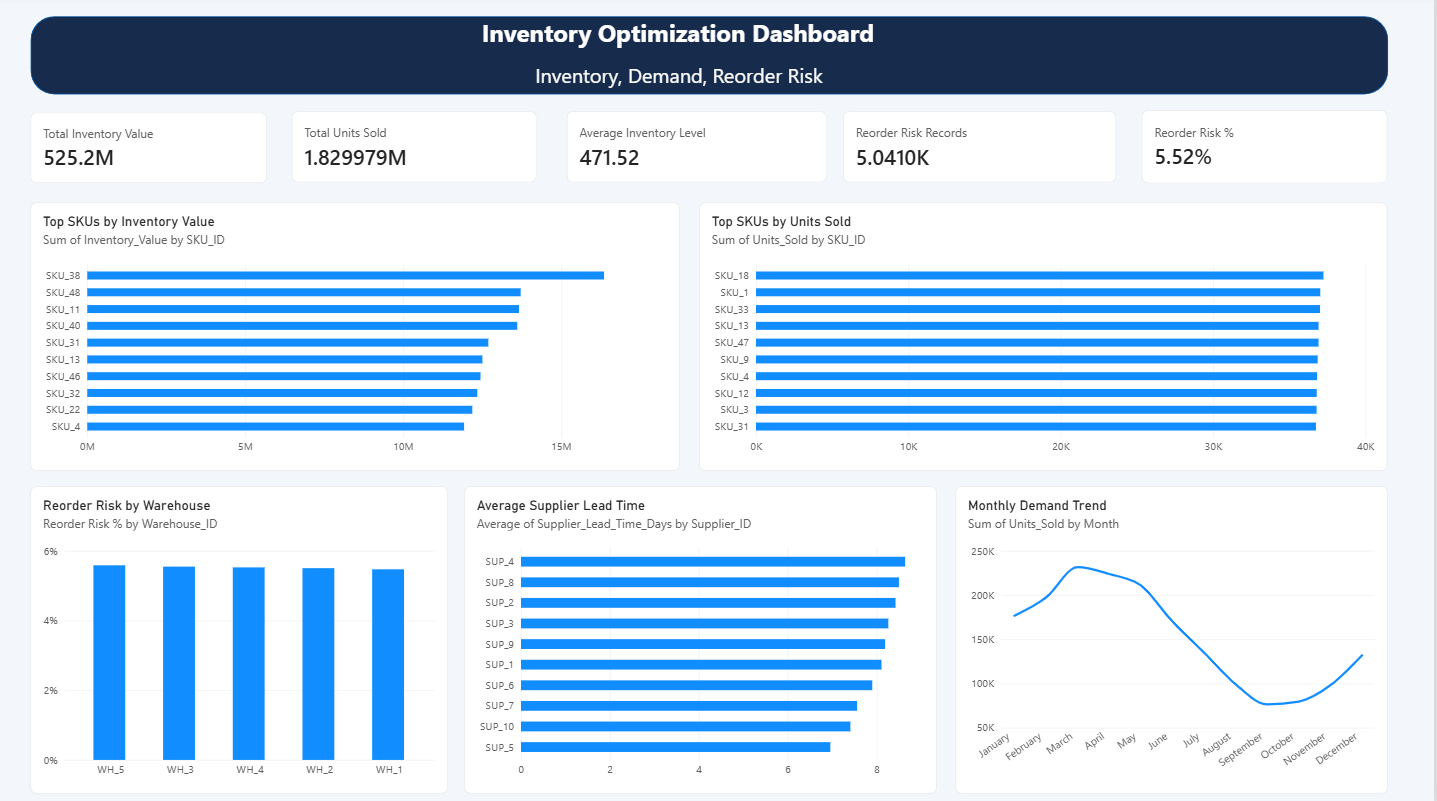

What the dashboard file says about the page in this screenshot:
{"tool":"powerbi","page":{"name":"Page 1","canvas":[1920,1080],"ordinal":0},"visuals":[{"type":"cardVisual","fields":{"Data":["inventory_cleaned.Reorder Risk %"]},"box":[1527.9,154.2,328.4,98.1],"z":0},{"type":"cardVisual","fields":{"Data":["inventory_cleaned.Total Inventory Value"]},"box":[43.4,157.4,316.7,94.1],"z":1000},{"type":"cardVisual","fields":{"Data":["inventory_cleaned.Total Units Sold"]},"box":[392.7,155.6,327.5,95.9],"z":2000},{"type":"cardVisual","fields":{"Data":["inventory_cleaned.Average Inventory Level"]},"box":[760.1,155.6,347.5,95.9],"z":3000},{"type":"cardVisual","fields":{"Data":["inventory_cleaned.Reorder Risk Records"]},"box":[1129.2,155.6,365.6,95.9],"z":4000},{"type":"clusteredBarChart","title":"Top SKUs by Inventory Value","fields":{"Category":["inventory_cleaned.SKU_ID"],"Y":["Sum(inventory_cleaned.Inventory_Value)"]},"box":[43.4,276.9,866.8,358.3],"z":5000},{"type":"clusteredBarChart","title":"Top SKUs by Units Sold","fields":{"Category":["inventory_cleaned.SKU_ID"],"Y":["Sum(inventory_cleaned.Units_Sold)"]},"box":[937.4,276.9,919.3,358.3],"z":6000},{"type":"lineChart","title":"Monthly Demand Trend","fields":{"Category":["inventory_cleaned.Date.Variation.Date Hierarchy.Month"],"Y":["Sum(inventory_cleaned.Units_Sold)"]},"box":[1279.4,656.9,577.3,410.8],"z":7000},{"type":"clusteredColumnChart","title":"Reorder Risk by Warehouse","fields":{"Category":["inventory_cleaned.Warehouse_ID"],"Y":["inventory_cleaned.Reorder Risk %"]},"box":[43.4,656.9,557.4,410.8],"z":8000},{"type":"clusteredBarChart","title":"Average Supplier Lead Time","fields":{"Category":["inventory_cleaned.Supplier_ID"],"Y":["Avg(inventory_cleaned.Supplier_Lead_Time_Days)"]},"box":[622.5,656.9,631.6,410.8],"z":9000},{"type":"shape","box":[43.7,29.1,1813.7,104.4],"z":10000},{"type":"textbox","box":[645.8,29.1,575.4,145.7],"z":11000}]}

Visuals, with their boxes in screenshot pixels (x1, y1, x2, y2), scaled from the page's 1920x1080 canvas onto the 1437x801 screenshot:
cardVisual - inventory_cleaned.Reorder Risk %: x1=1144, y1=114, x2=1389, y2=187
cardVisual - inventory_cleaned.Total Inventory Value: x1=32, y1=117, x2=270, y2=187
cardVisual - inventory_cleaned.Total Units Sold: x1=294, y1=115, x2=539, y2=187
cardVisual - inventory_cleaned.Average Inventory Level: x1=569, y1=115, x2=829, y2=187
cardVisual - inventory_cleaned.Reorder Risk Records: x1=845, y1=115, x2=1119, y2=187
"Top SKUs by Inventory Value" clusteredBarChart: x1=32, y1=205, x2=681, y2=471
"Top SKUs by Units Sold" clusteredBarChart: x1=702, y1=205, x2=1390, y2=471
"Monthly Demand Trend" lineChart: x1=958, y1=487, x2=1390, y2=792
"Reorder Risk by Warehouse" clusteredColumnChart: x1=32, y1=487, x2=450, y2=792
"Average Supplier Lead Time" clusteredBarChart: x1=466, y1=487, x2=939, y2=792
shape: x1=33, y1=22, x2=1390, y2=99
textbox: x1=483, y1=22, x2=914, y2=130
